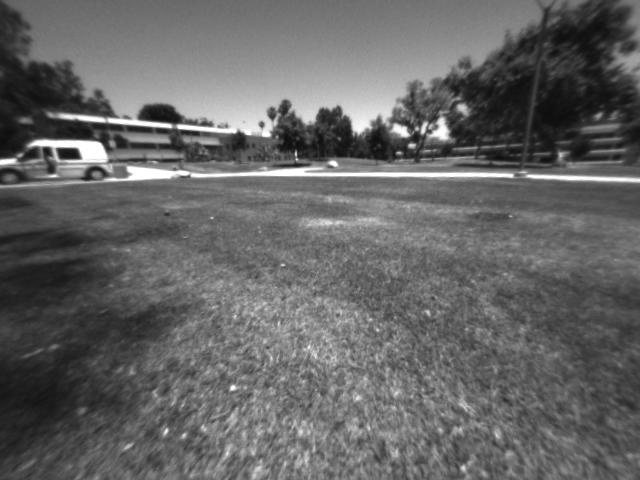dogtoy: (158, 203, 180, 221)
